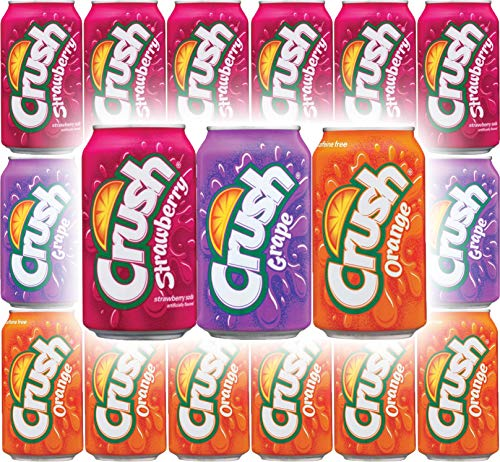can: (195, 122, 313, 342), (81, 123, 198, 341), (311, 125, 429, 339), (416, 306, 500, 461), (416, 1, 500, 154), (1, 308, 84, 462), (1, 1, 82, 154), (1, 155, 80, 306), (82, 325, 169, 462), (425, 151, 500, 307), (332, 331, 416, 462), (165, 1, 248, 130), (333, 1, 417, 127), (81, 1, 167, 124), (249, 337, 334, 460), (165, 340, 250, 462), (250, 1, 331, 126)
